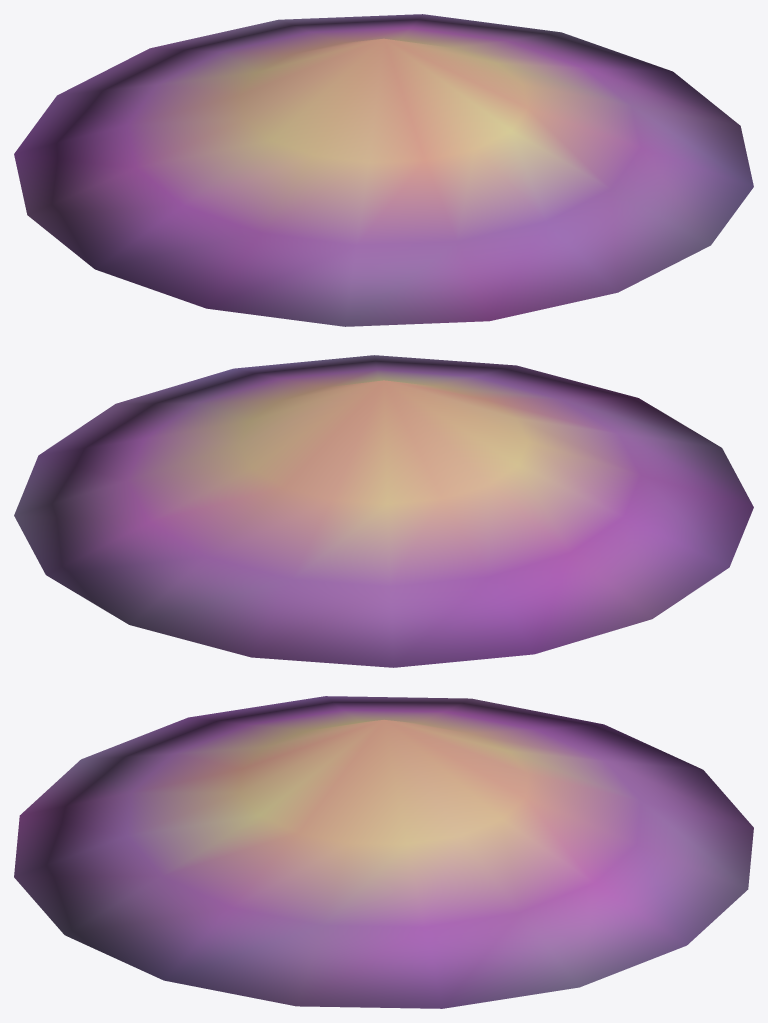
Rendered from space-galaxies-galaxy_v9.glb.
3 renders of one model, top to bottom at view 1: azimuth 30°, elevation 25°; view 2: azimuth 150°, elevation 25°; view 3: azimuth 270°, elevation 25°, orthographic.
Parts seen in each view (by area): view 1: Galaxy_v9; view 2: Galaxy_v9; view 3: Galaxy_v9.
Boxes of the visible parts, x1,y1,x2,y2 form: Galaxy_v9: (14,14,753,326); Galaxy_v9: (14,355,753,667); Galaxy_v9: (14,696,753,1008).
Bounding box in the file's own units: 0.5 × 0.1797 × 0.5.
